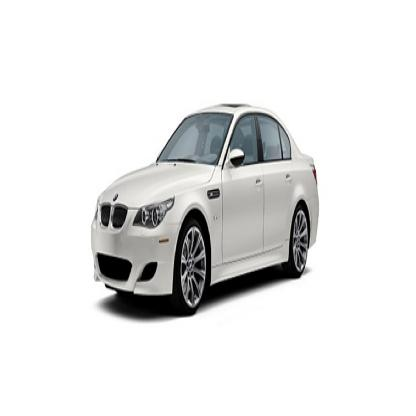Vehicle: (92, 109, 320, 313)
